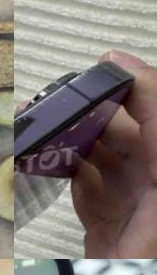scratch: (14, 59, 116, 110), (14, 113, 39, 166)
